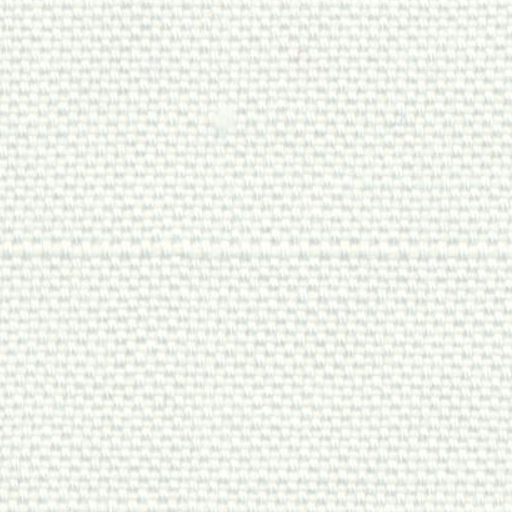TuoSha: (8, 204, 501, 292)
